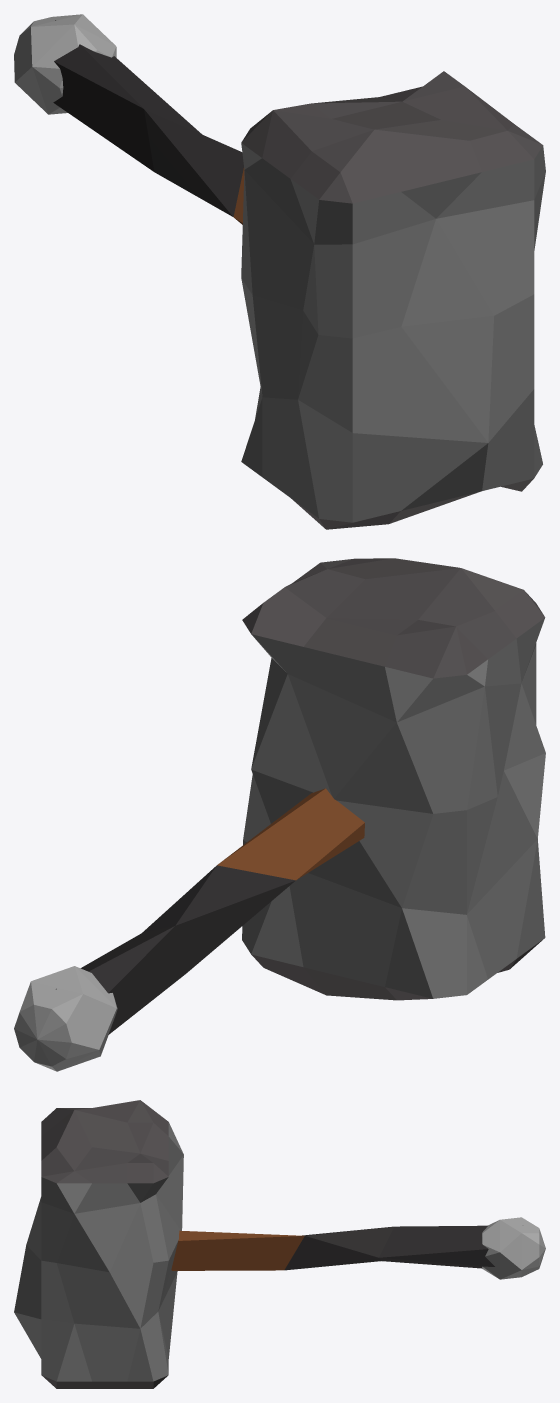
The model's file is arme_marteau.fbx.
3 renders of one model, top to bottom at view 1: azimuth 30°, elevation 25°; view 2: azimuth 150°, elevation 25°; view 3: azimuth 270°, elevation 25°, orthographic. The views are drawn at different scales.
Parts seen in each view (by area): view 1: Box041; view 2: Box041; view 3: Box041.
Boxes of the visible parts, x1,y1,x2,y2 form: Box041: [14, 14, 545, 529]; Box041: [14, 558, 545, 1071]; Box041: [14, 1100, 545, 1388].
Size of the model in its own units: 32.4 by 50.14 by 95.68.
